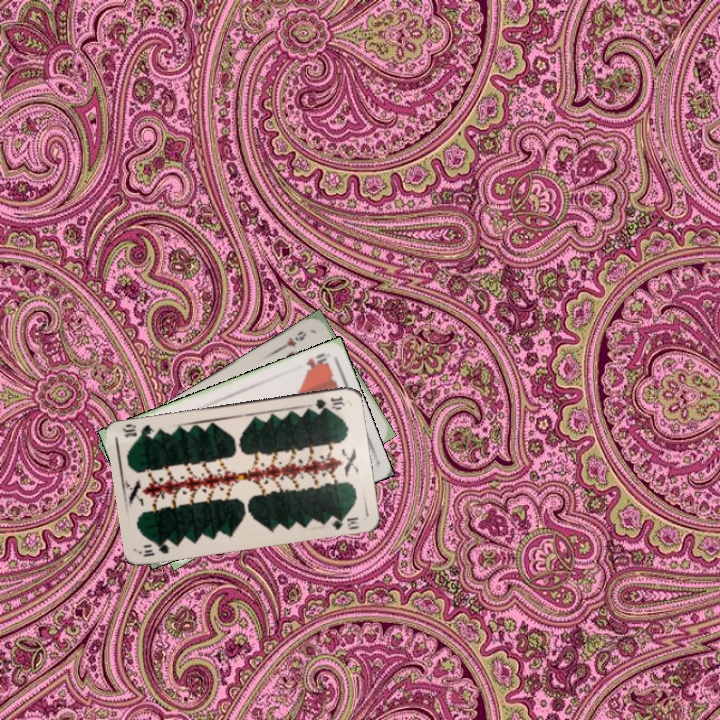G10: (137, 538, 172, 559), (311, 392, 347, 412)
H9: (277, 327, 310, 352)
HO: (302, 349, 331, 374)
